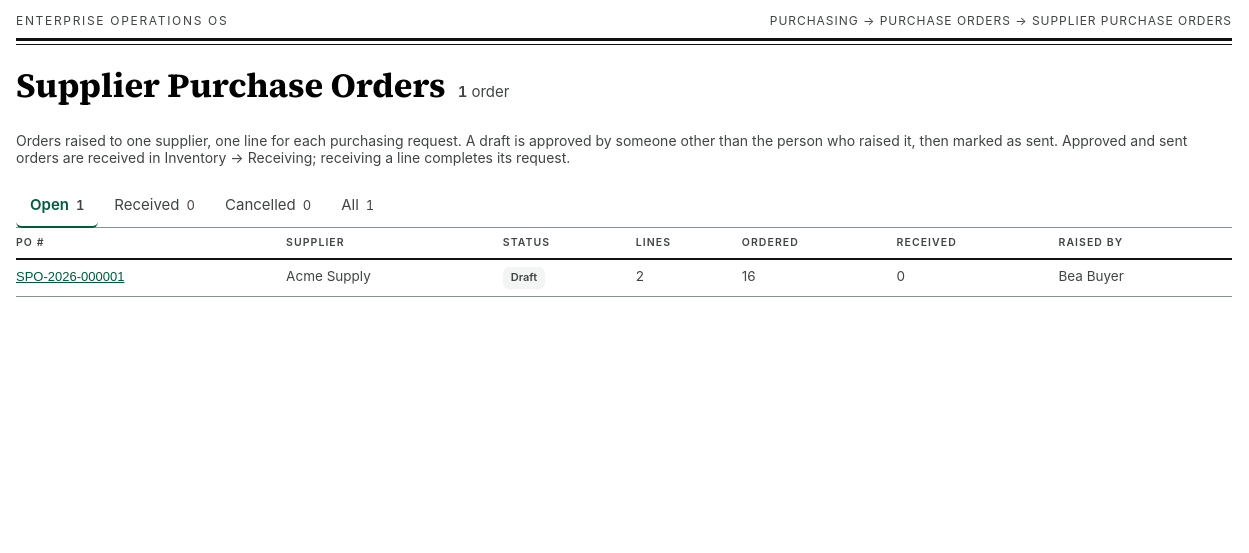
Scenario: controls are offered only to capability holders, narrowed by the server's own flags › an approver sees Approve; holding .send does not show Mark as sent on a draft (the server says no)
The width and height of the screenshot is (1249, 553).
What coordinates should you click on to do the following:
click the button "SPO-2026-000001"
I would click on:
 (70, 277)
Its box is 16,269 -> 124,284.
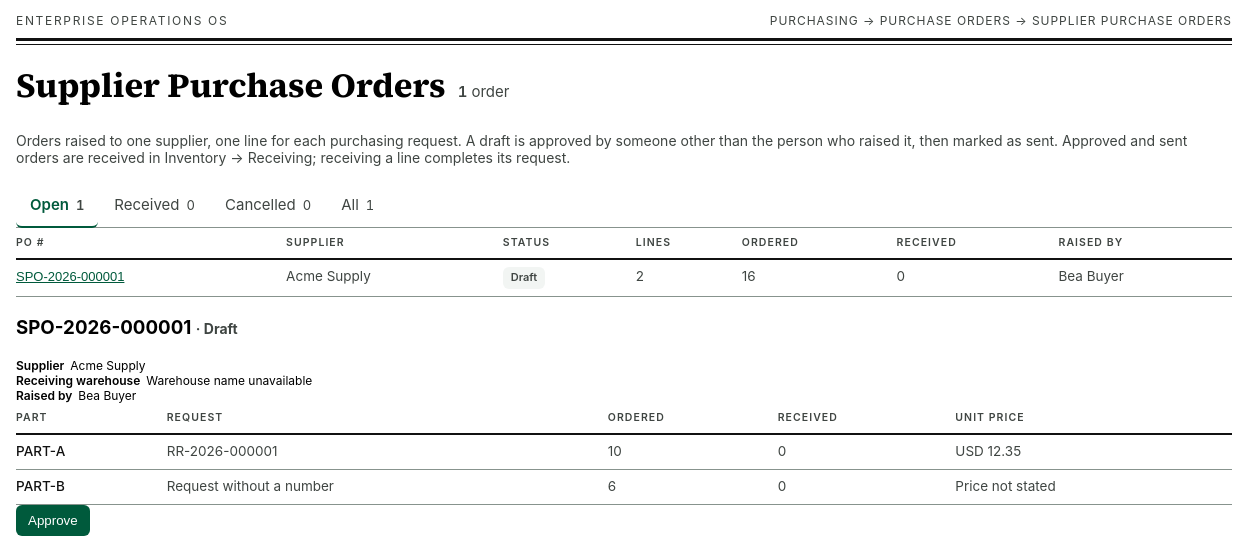
Now the element named "Order SPO-2026-000001" is shown, box 16,297 -> 1232,536
Now the button "Approve" is shown, box 16,505 -> 90,536
